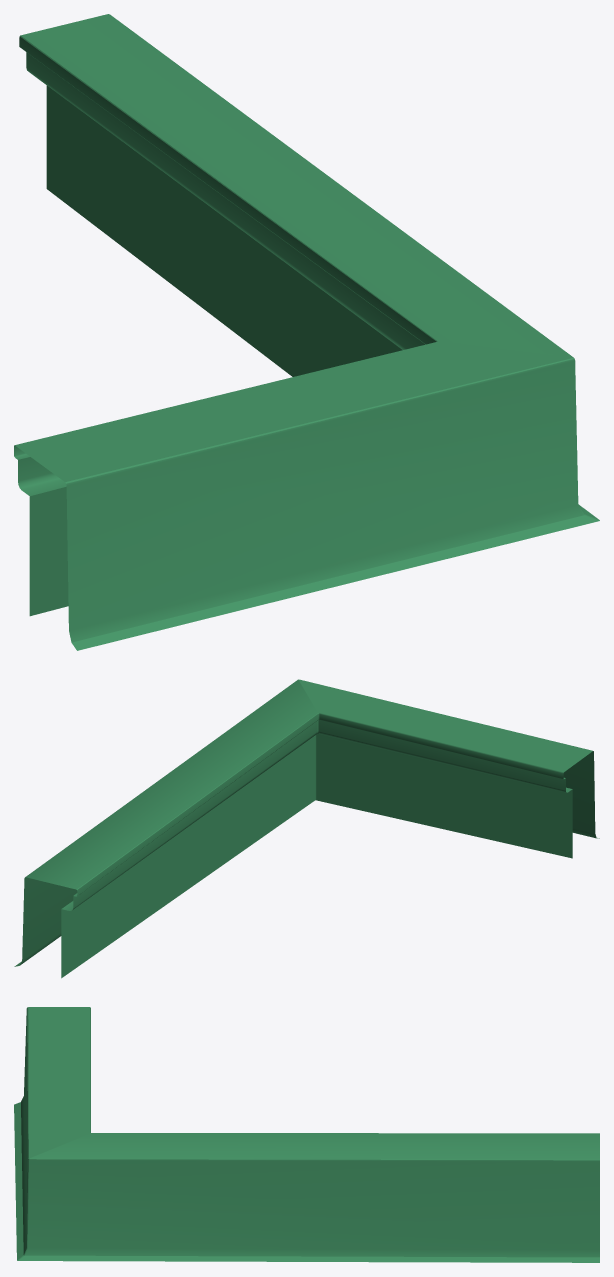
The model's file is GS_Ext_Roof_Trim_Corner_06.fbx.
The picture shows the model from 3 angles, top to bottom: view 1: azimuth 30°, elevation 25°; view 2: azimuth 150°, elevation 25°; view 3: azimuth 270°, elevation 25°; orthographic projection. The views are drawn at different scales.
Parts seen in each view (by area): view 1: GS_Ext_Roof_Trim_Corner_06; view 2: GS_Ext_Roof_Trim_Corner_06; view 3: GS_Ext_Roof_Trim_Corner_06.
Part boxes in pixels (x1,y1,x2,y2): GS_Ext_Roof_Trim_Corner_06: (14,14,599,650); GS_Ext_Roof_Trim_Corner_06: (14,679,599,978); GS_Ext_Roof_Trim_Corner_06: (14,1007,599,1262).
Bounding box in the file's own units: 195 × 56 × 305.
